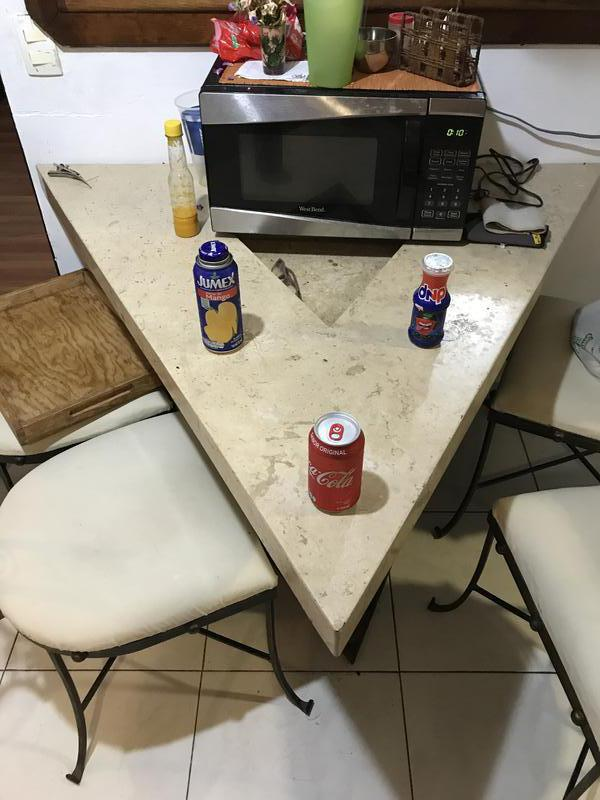coca_cola: (307, 413, 365, 517)
danup: (409, 249, 452, 349)
jugo_jumex: (190, 238, 249, 354)
